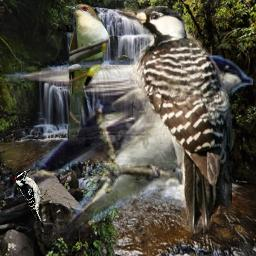Cuckoo: (64, 3, 111, 141)
Swallow: (3, 52, 253, 243)
Woodpecker: (116, 6, 232, 236), (14, 169, 52, 222)
